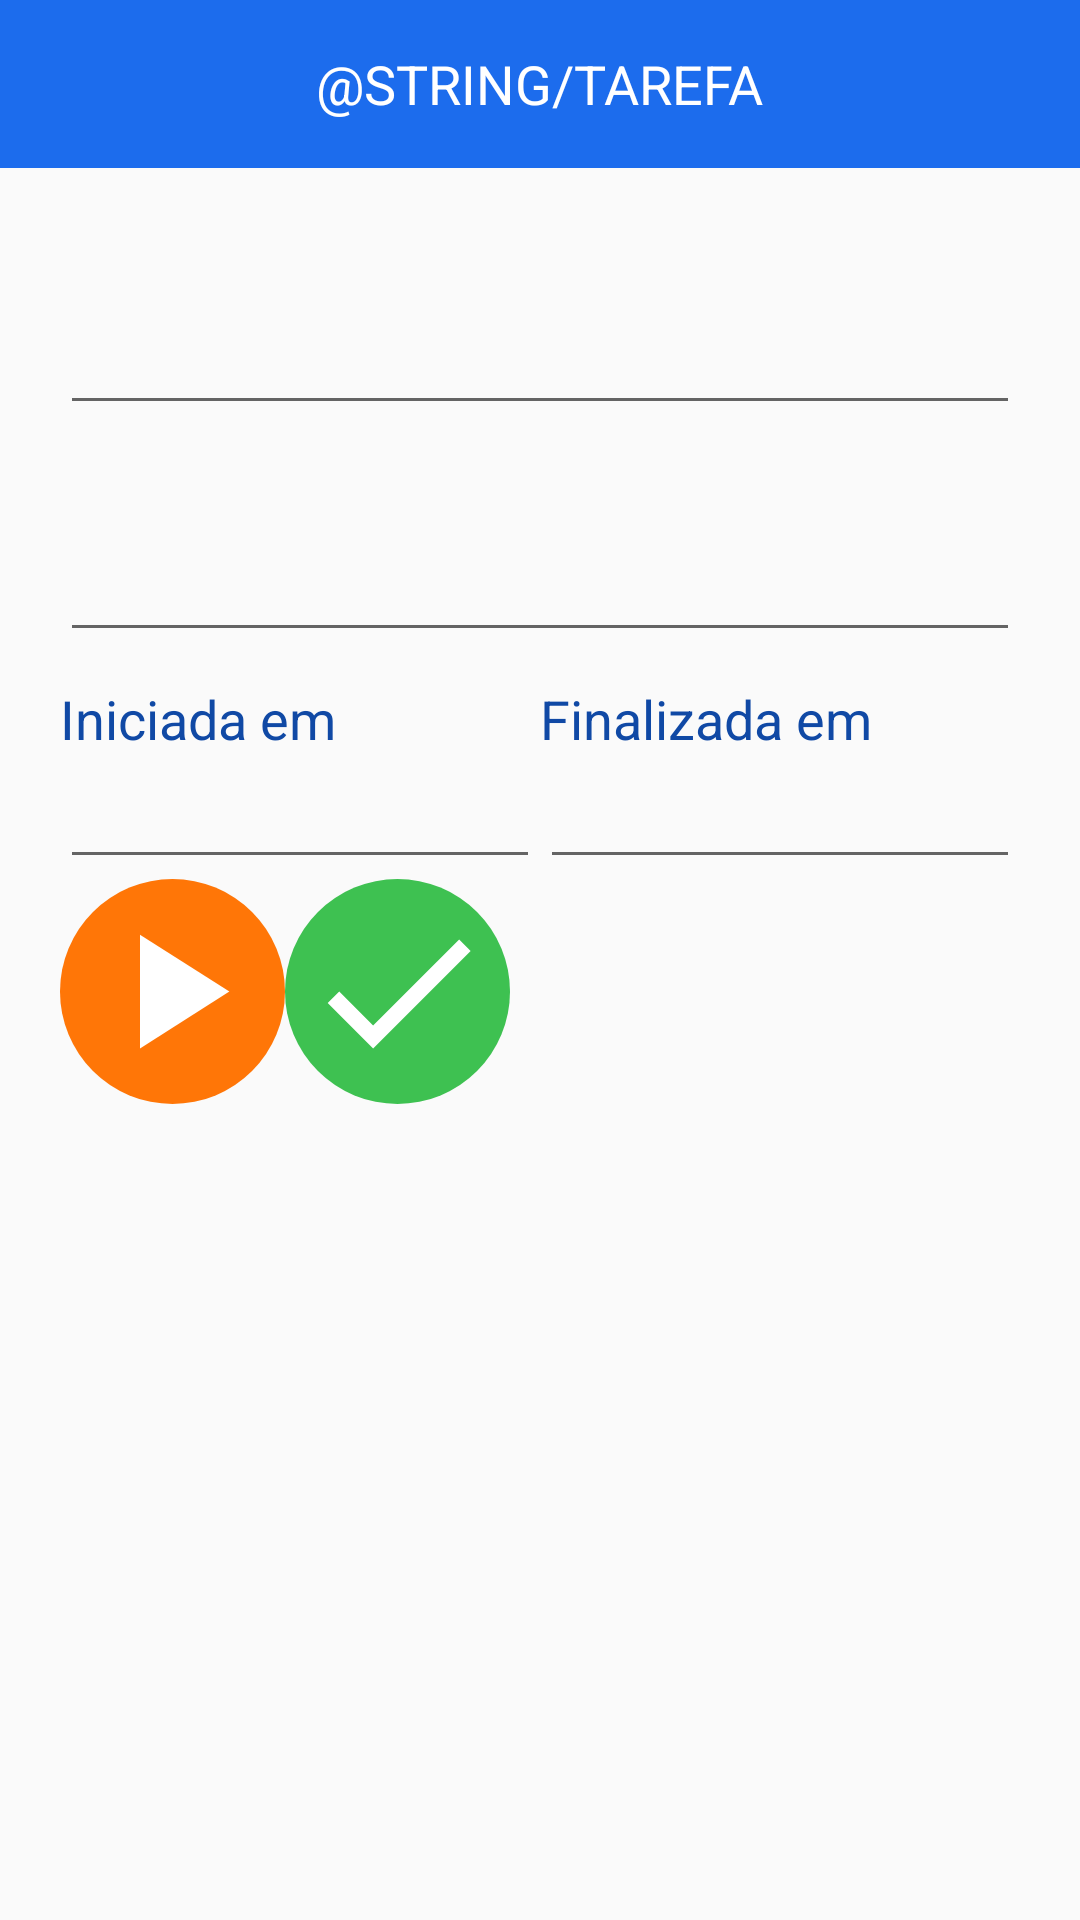

Icons on this 1080px x 1920px Android screen, each with the point to tap as [x,y]:
check: [397,991]
play: [172,991]
